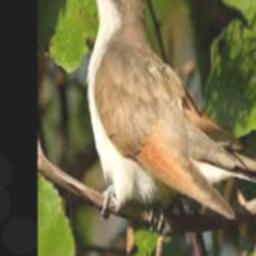Cuckoo: (75, 0, 239, 220)
